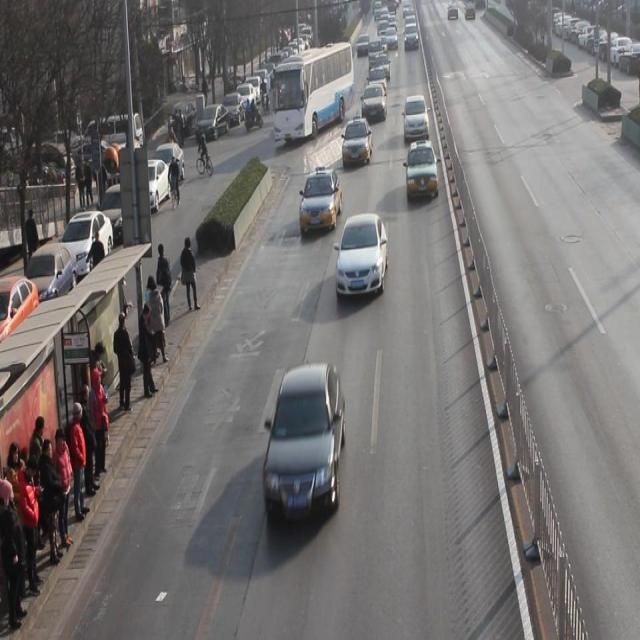car: (261, 364, 346, 521), (336, 214, 389, 298), (300, 169, 343, 232), (405, 141, 440, 199), (341, 117, 374, 165), (404, 95, 430, 143), (362, 85, 387, 121), (367, 66, 387, 100)
van: (273, 40, 353, 141)
